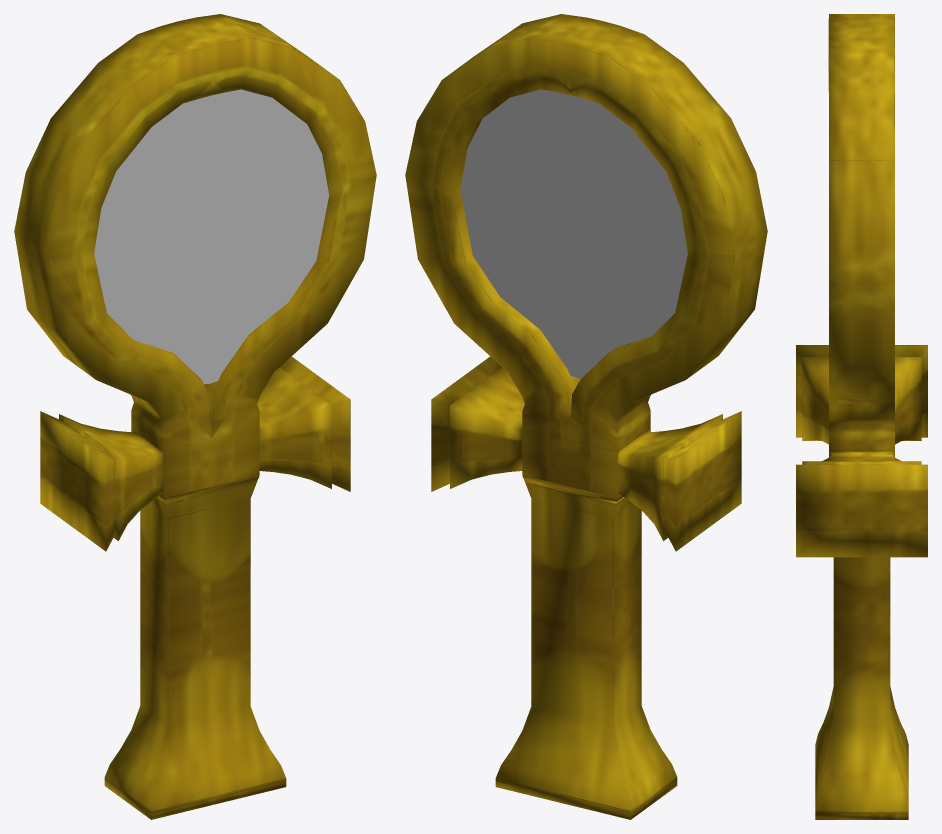
Rendered from artifact.fbx.
The picture shows the model from 3 angles, left to right: view 1: azimuth 30°, elevation 25°; view 2: azimuth 150°, elevation 25°; view 3: azimuth 270°, elevation 25°; orthographic projection.
Parts seen in each view (by area): view 1: Plane, Circle; view 2: Plane, Circle; view 3: Plane.
Part boxes in pixels (x1,y1,x2,y2): Plane: (14, 14, 376, 819); Circle: (94, 89, 329, 384); Plane: (405, 14, 767, 819); Circle: (460, 89, 687, 378); Plane: (796, 14, 927, 819).
Bounding box in the file's own units: 69.09 × 151 × 23.89.
